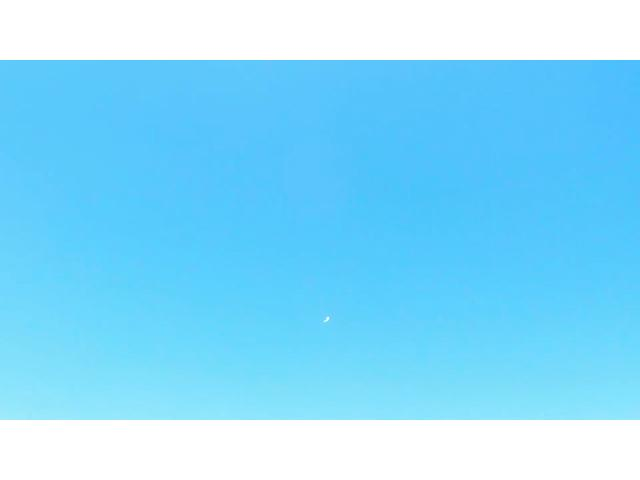Anti-Drone: (314, 307, 342, 329)
